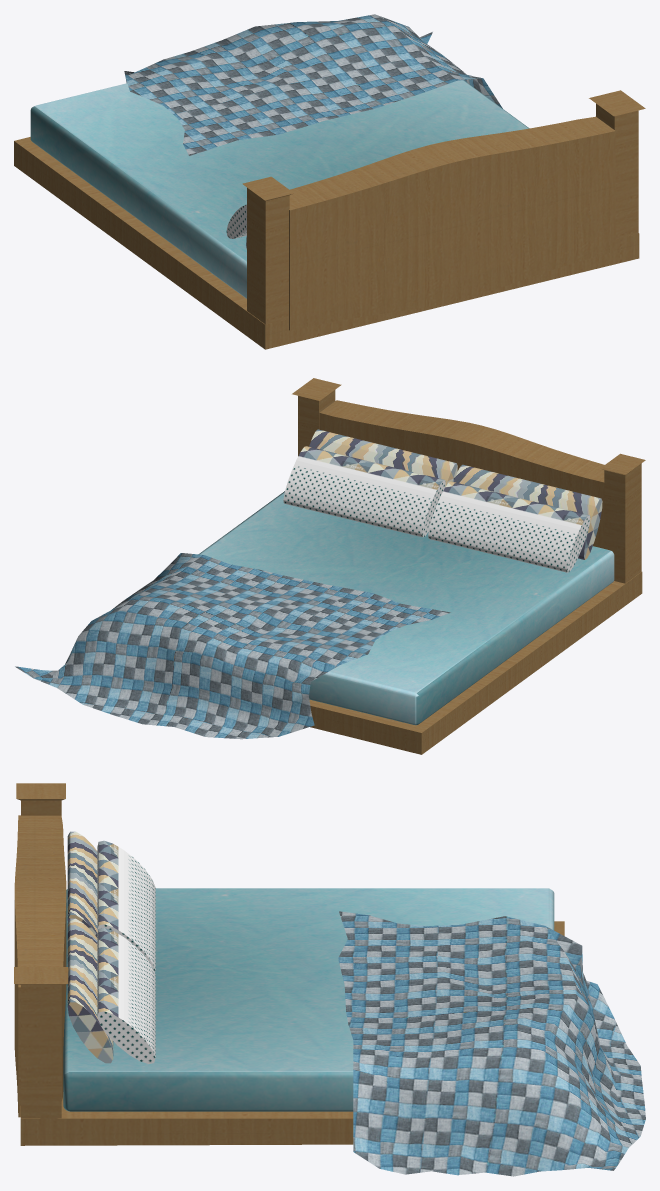
Rendered from FUR0210070.fbx.
The picture shows the model from 3 angles, top to bottom: view 1: azimuth 30°, elevation 25°; view 2: azimuth 150°, elevation 25°; view 3: azimuth 270°, elevation 25°; orthographic projection. The views are drawn at different scales.
Parts seen in each view (by area): view 1: smFUR0210070; view 2: smFUR0210070; view 3: smFUR0210070.
Boxes of the visible parts, x1,y1,x2,y2 form: smFUR0210070: [14, 14, 645, 349]; smFUR0210070: [15, 378, 645, 754]; smFUR0210070: [14, 783, 645, 1176].
Size of the model in its own units: 291 by 99.07 by 331.
1 material, 1 textured.
